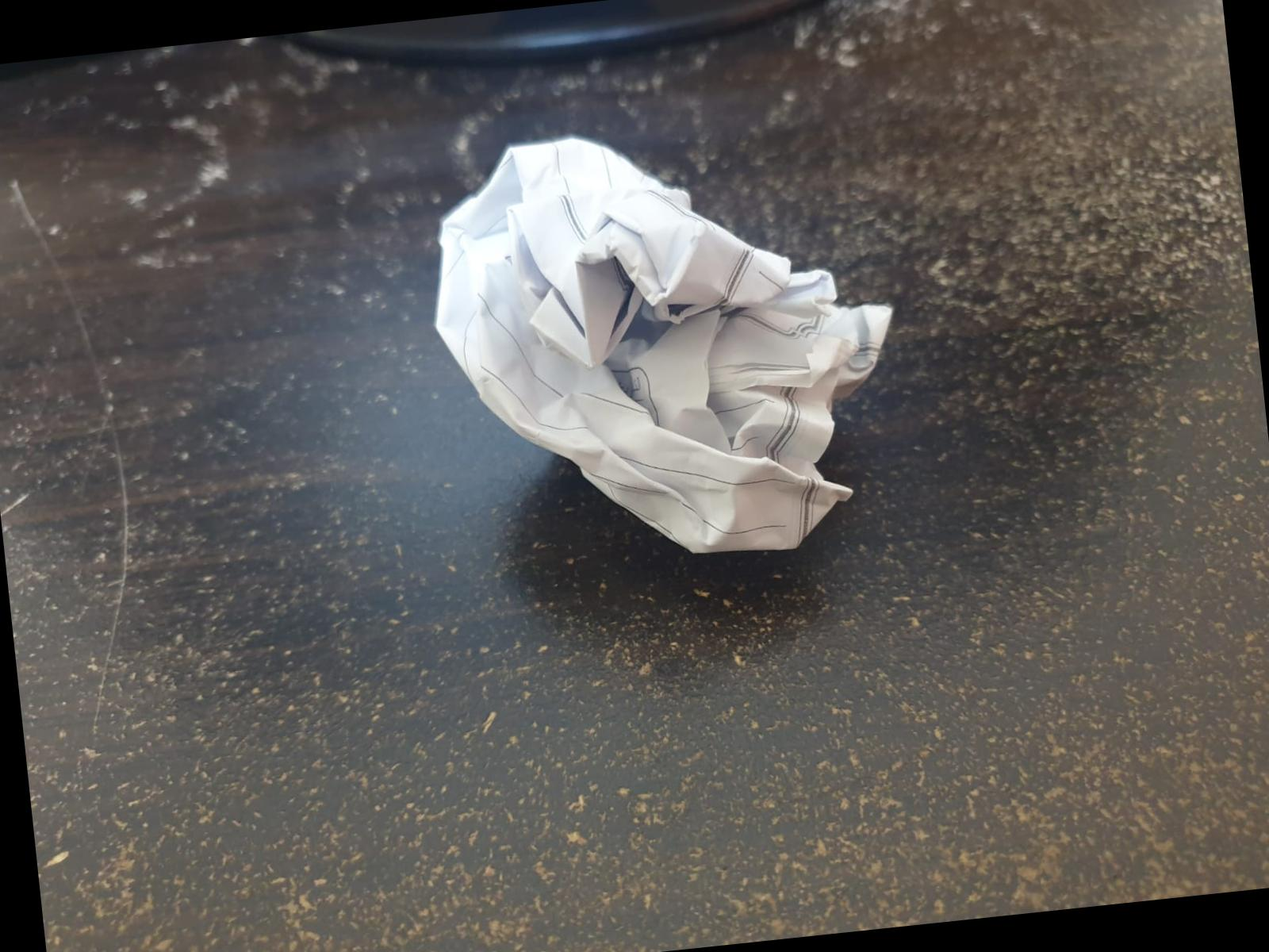Kertas: (437, 137, 889, 551)
